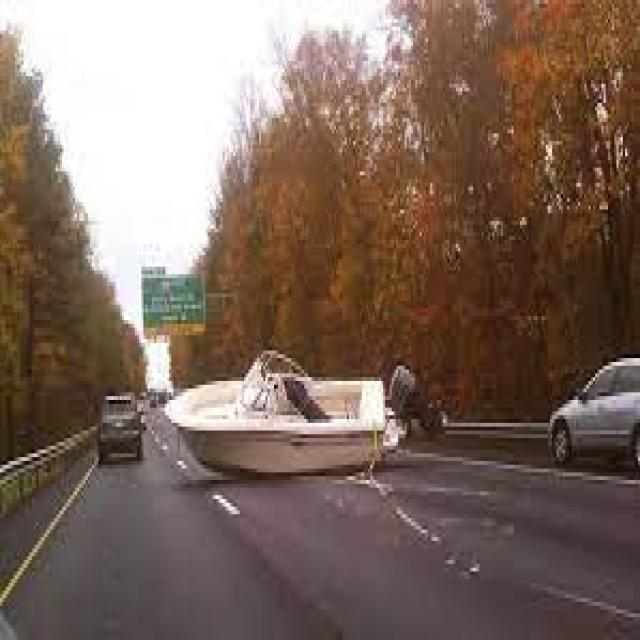ship2: (165, 350, 396, 477)
